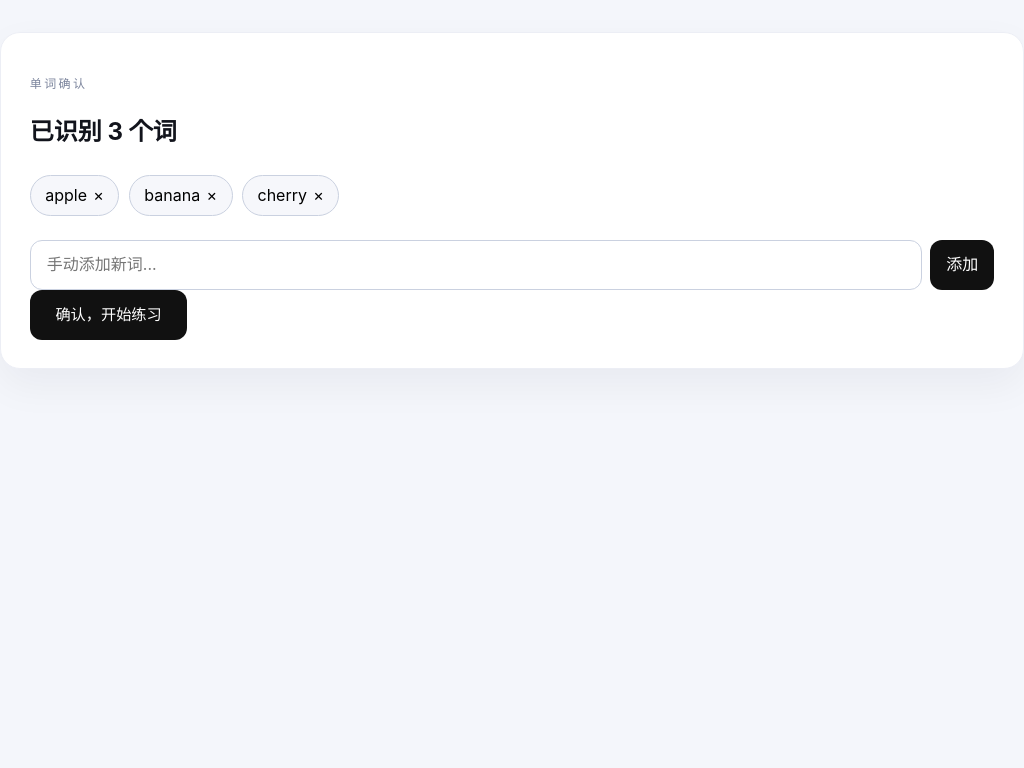
Test case: ConfirmWordsPage - Vocabulary Details Toggle › Error handling (Requirements 3.4) › should show error with retry/skip options when vocab details fails but quiz succeeds
Click the button "确认，开始练习".
click(109, 315)  # box x1=30 y1=290 x2=187 y2=340
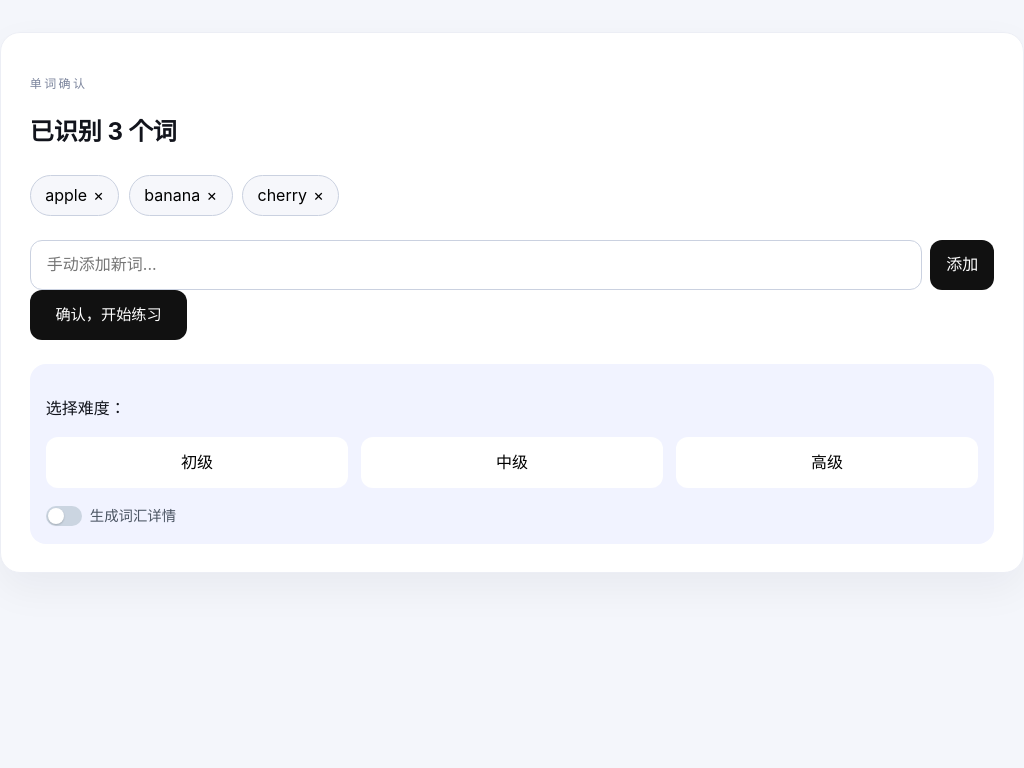
Turn on the toggle
Click the switch.
click(64, 516)  # box x1=46 y1=506 x2=82 y2=526
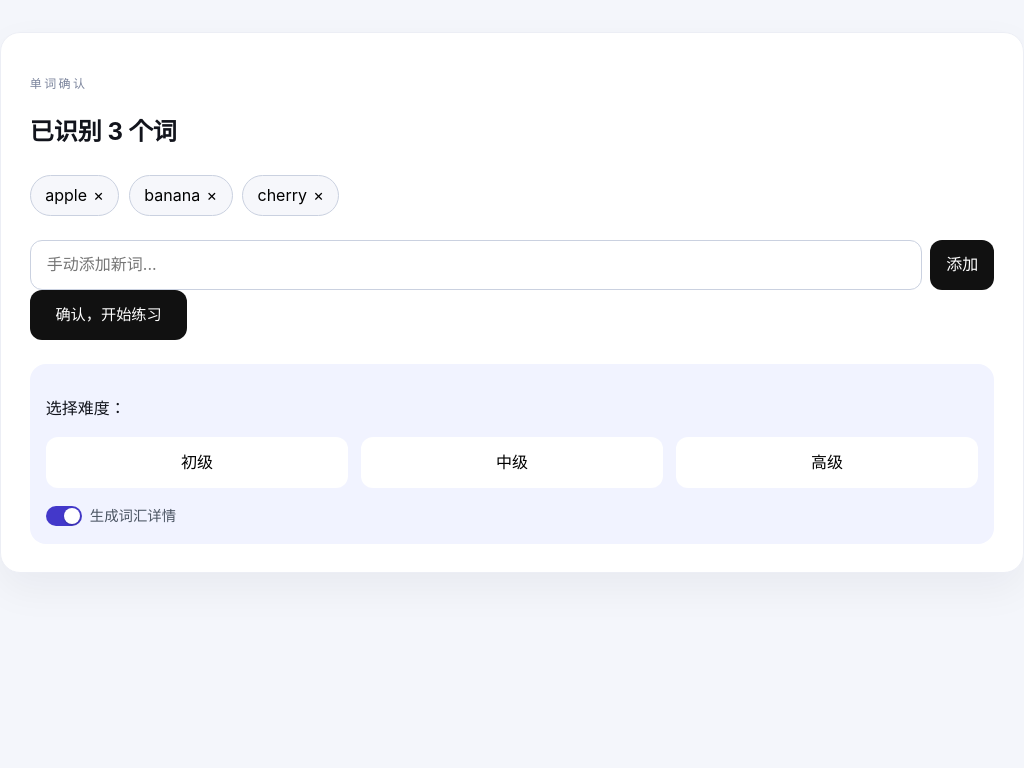
Click the button "初级".
click(197, 463)  # box x1=46 y1=437 x2=348 y2=488
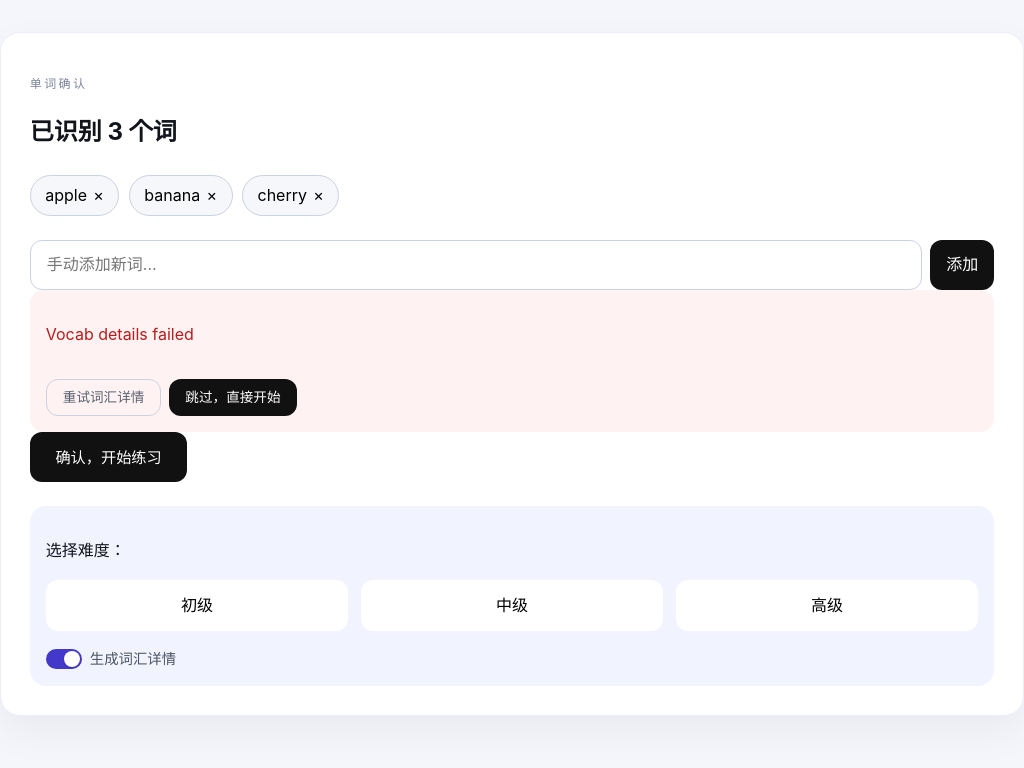
Result: the element with test id "vocab-details-error" is shown at x1=30 y1=290 x2=994 y2=432
Result: the button "重试词汇详情" is shown at x1=46 y1=379 x2=161 y2=416
Result: the button "跳过，直接开始" is shown at x1=169 y1=379 x2=297 y2=416
